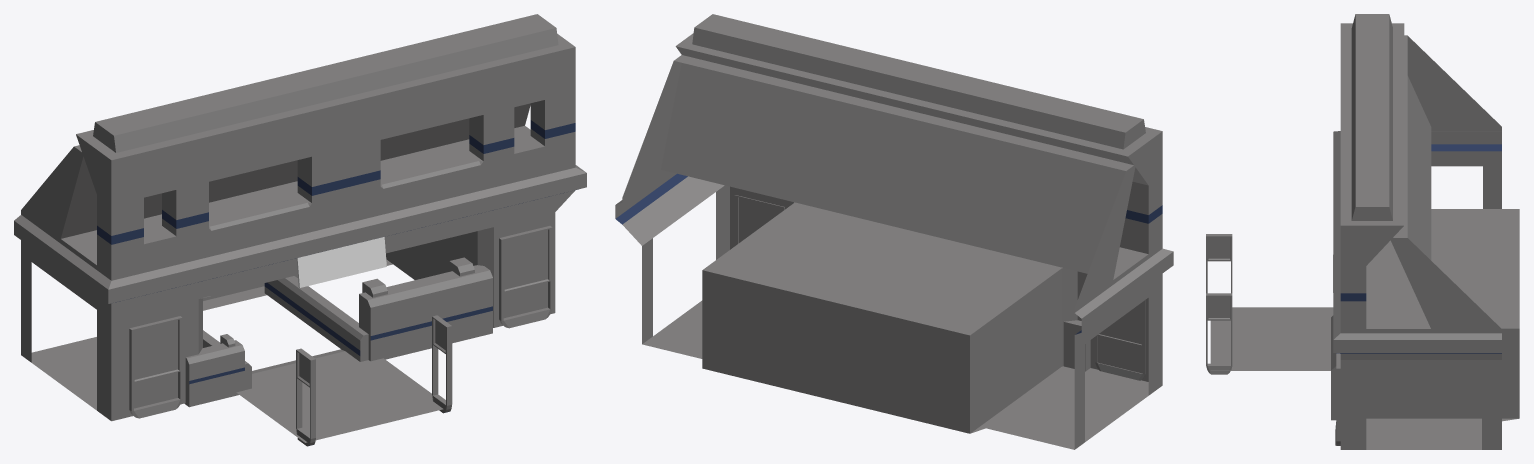
The model's file is facade.fbx.
3 renders of one model, left to right at view 1: azimuth 30°, elevation 25°; view 2: azimuth 150°, elevation 25°; view 3: azimuth 270°, elevation 25°, orthographic. The views are drawn at different scales.
Visible parts, largest first — view 1: Cube.022, Cube.023, Plane.001, Cube.033, Cube.032, Cube.016, Cube.025, Cube.026; view 2: Cube.022, Cube.033, Cube.023; view 3: Cube.022, Plane.001, Cube.025, Cube.026, Cube.023, Cube.032.
Boxes of the visible parts, left/top/right/bottom form: Cube.022: left=14, top=14, right=586, bottom=421; Cube.023: left=184, top=257, right=492, bottom=407; Plane.001: left=236, top=349, right=443, bottom=442; Cube.033: left=129, top=316, right=182, bottom=418; Cube.032: left=499, top=226, right=552, bottom=328; Cube.016: left=296, top=237, right=386, bottom=287; Cube.025: left=432, top=315, right=452, bottom=413; Cube.026: left=296, top=348, right=315, bottom=446; Cube.022: left=615, top=14, right=1173, bottom=449; Cube.033: left=1095, top=300, right=1145, bottom=380; Cube.023: left=1063, top=320, right=1090, bottom=371; Cube.022: left=1333, top=14, right=1519, bottom=449; Plane.001: left=1210, top=307, right=1333, bottom=370; Cube.025: left=1206, top=293, right=1232, bottom=374; Cube.026: left=1206, top=234, right=1232, bottom=293; Cube.023: left=1331, top=315, right=1336, bottom=420; Cube.032: left=1335, top=353, right=1340, bottom=445.
Bounding box in the file's own units: 3868 × 2154 × 2486.
